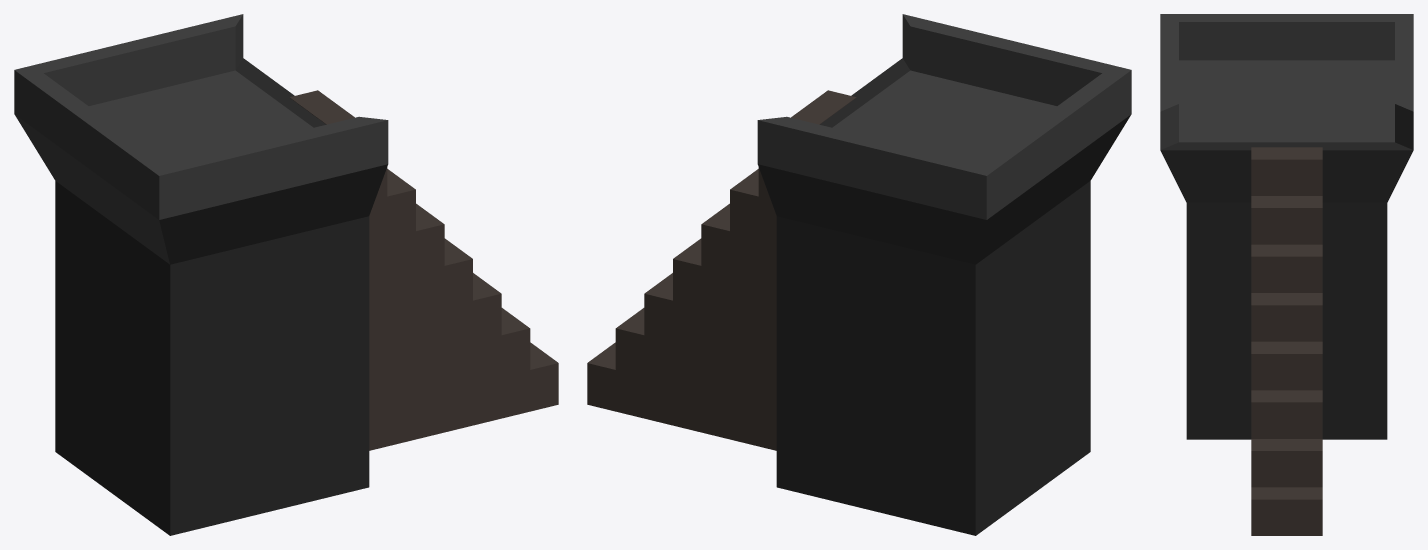
File: OrcAttackTower.fbx
The picture shows the model from 3 angles, left to right: view 1: azimuth 30°, elevation 25°; view 2: azimuth 150°, elevation 25°; view 3: azimuth 270°, elevation 25°; orthographic projection. The views are drawn at different scales.
Parts seen in each view (by area): view 1: Cube; view 2: Cube; view 3: Cube.
Boxes of the visible parts, box(x1,y1,x2,y2) form: Cube: box(14, 14, 558, 535); Cube: box(587, 14, 1131, 535); Cube: box(1160, 14, 1413, 535).
Bounding box in the file's own units: 2269 × 1812 × 1261.
